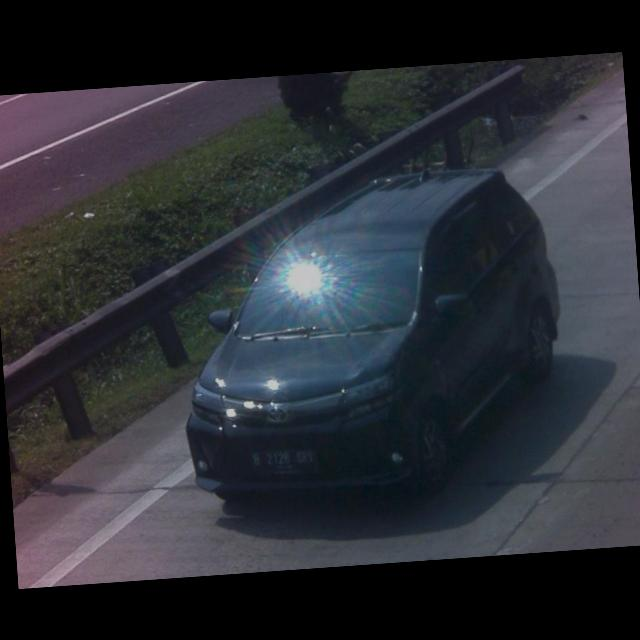plate: (248, 446, 320, 472)
